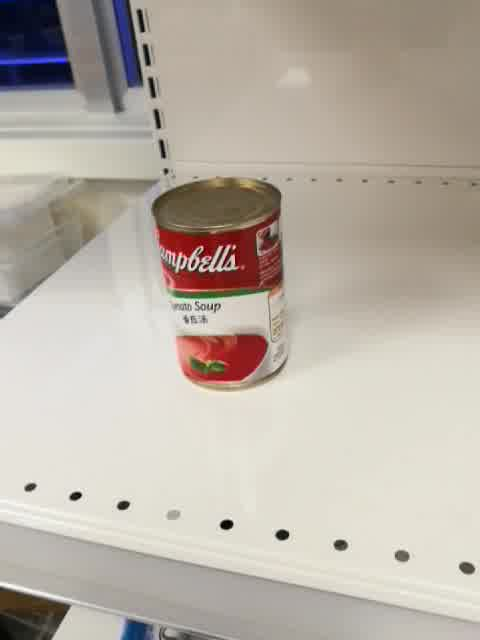tomatosoup: (149, 176, 290, 392)
